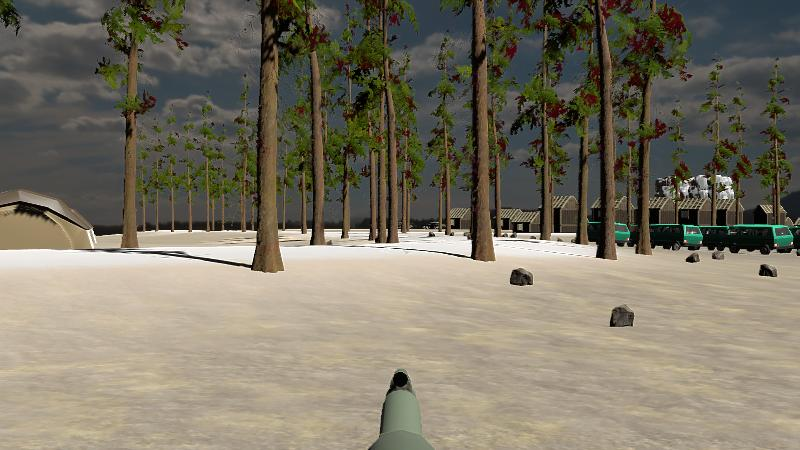House: (538, 193, 580, 233), (648, 195, 678, 228), (509, 210, 536, 233), (725, 198, 744, 227)
car: (726, 224, 795, 253), (647, 224, 702, 249), (587, 220, 633, 246), (701, 226, 731, 249)
